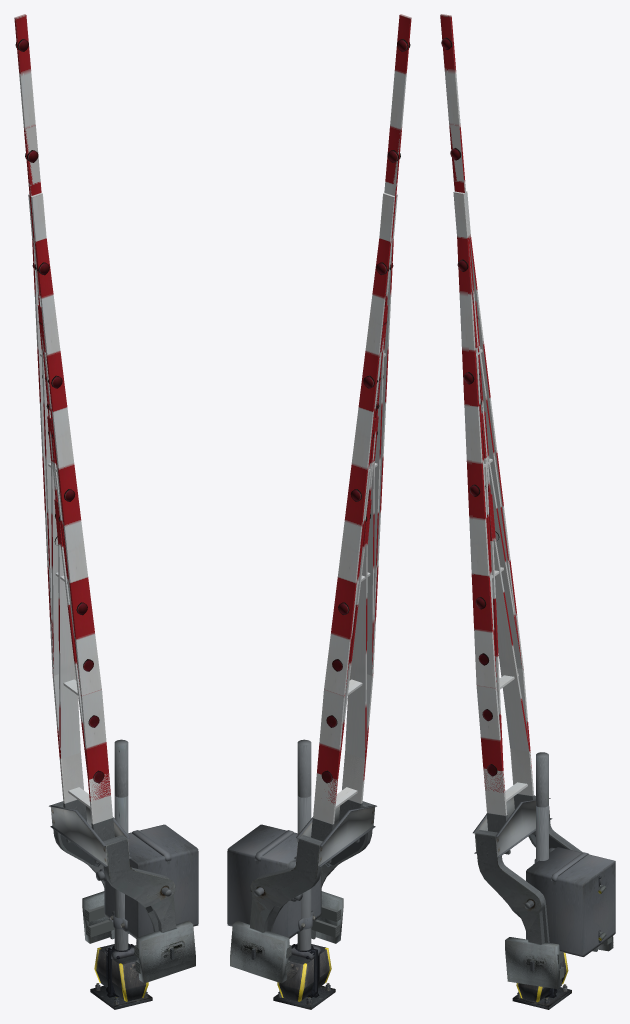
File: azd99.obj
The picture shows the model from 3 angles, left to right: view 1: azimuth 30°, elevation 25°; view 2: azimuth 150°, elevation 25°; view 3: azimuth 330°, elevation 25°; orthographic projection. The views are drawn at different scales.
Parts seen in each view (by area): view 1: azd99_zavora_75, azd99_motor_zavory, azd99_zavora_42, azd99_zavora_50, azd99_rameno, azd99_zavora_60, azd99_spojnice, azd99_zavazi_42, azd99_podstavec_old, azd99_zavazi_65, azd99_stozar_delsi, azd99_odrazky_75 (+6 smaller); view 2: azd99_zavora_75, azd99_motor_zavory, azd99_zavora_42, azd99_zavora_50, azd99_rameno, azd99_zavazi_42, azd99_zavora_60, azd99_spojnice, azd99_podstavec_new, azd99_zavazi_50, azd99_stozar_delsi, azd99_odrazky_75 (+5 smaller); view 3: azd99_zavora_75, azd99_motor_zavory, azd99_zavora_42, azd99_zavora_50, azd99_rameno, azd99_zavora_60, azd99_spojnice, azd99_zavazi_42, azd99_zavazi_55, azd99_stozar_delsi, azd99_odrazky_75, azd99_zavazi_60 (+5 smaller).
Part boxes in pixels (x1,y1,x2,y2): azd99_zavora_75: [14, 14, 101, 808]; azd99_motor_zavory: [96, 795, 198, 950]; azd99_zavora_42: [45, 378, 112, 824]; azd99_zavora_50: [47, 416, 112, 823]; azd99_rameno: [51, 799, 176, 939]; azd99_zavora_60: [28, 181, 79, 683]; azd99_spojnice: [49, 805, 171, 896]; azd99_zavazi_42: [82, 891, 195, 973]; azd99_podstavec_old: [111, 947, 148, 1001]; azd99_zavazi_65: [82, 904, 193, 981]; azd99_stozar_delsi: [114, 739, 128, 797]; azd99_odrazky_75: [15, 39, 87, 615]; azd99_zavora_75: [324, 14, 411, 808]; azd99_motor_zavory: [227, 795, 321, 950]; azd99_zavora_42: [313, 378, 380, 824]; azd99_zavora_50: [313, 296, 386, 823]; azd99_rameno: [249, 799, 374, 939]; azd99_zavazi_42: [230, 891, 343, 975]; azd99_zavora_60: [346, 184, 397, 686]; azd99_spojnice: [254, 805, 376, 896]; azd99_podstavec_new: [277, 947, 314, 1001]; azd99_zavazi_50: [230, 898, 343, 977]; azd99_stozar_delsi: [297, 739, 311, 797]; azd99_odrazky_75: [338, 39, 410, 615]; azd99_zavora_75: [440, 14, 526, 798]; azd99_motor_zavory: [526, 805, 615, 956]; azd99_zavora_42: [479, 375, 533, 815]; azd99_zavora_50: [476, 350, 533, 814]; azd99_rameno: [475, 793, 597, 951]; azd99_zavora_60: [453, 180, 521, 676]; azd99_spojnice: [473, 796, 552, 909]; azd99_zavazi_42: [505, 936, 613, 981]; azd99_zavazi_55: [505, 943, 613, 984]; azd99_stozar_delsi: [536, 752, 548, 807]; azd99_odrazky_75: [441, 37, 486, 609]; azd99_zavazi_60: [505, 944, 613, 986].
Bounding box in the file's own units: 0.9517 × 5.35 × 0.6081.
